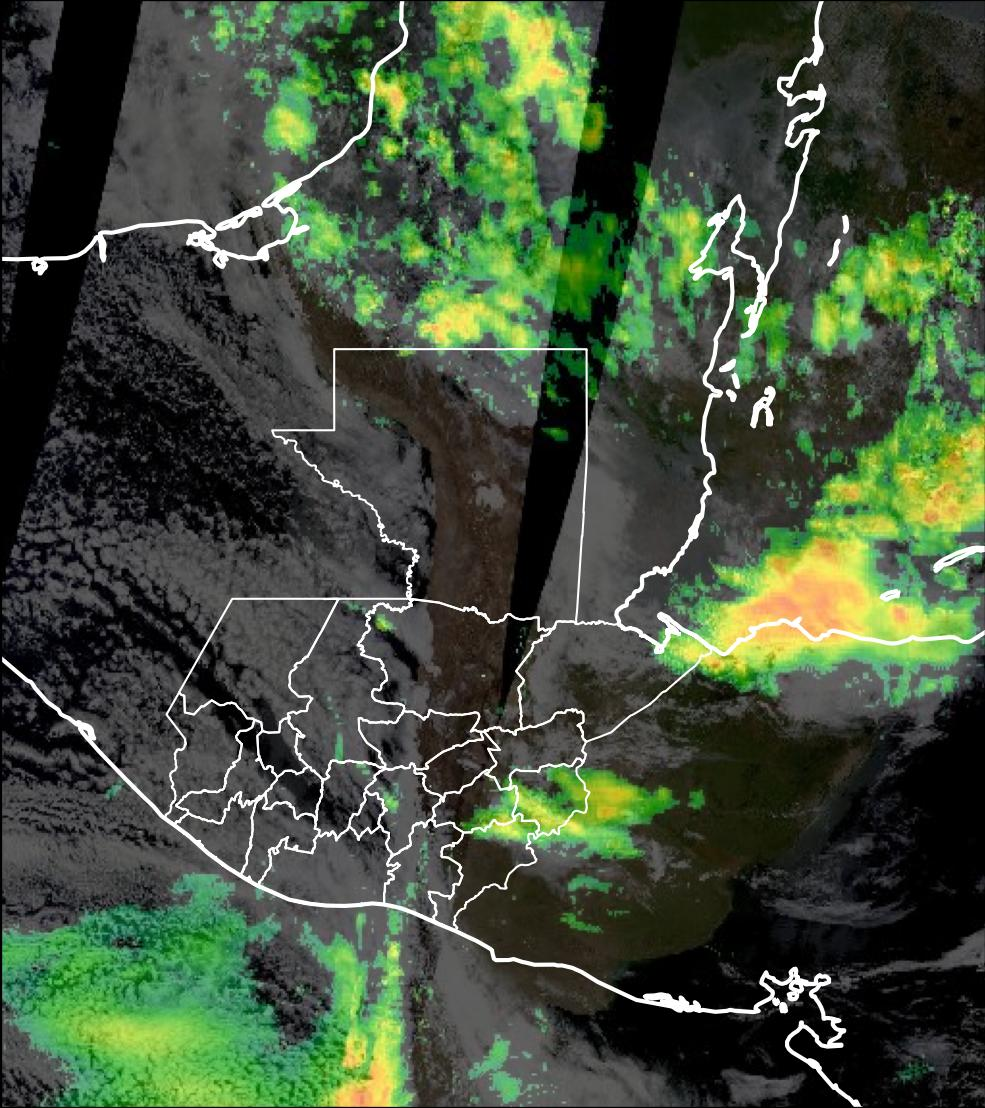precipitacion: (683, 547, 903, 684), (329, 1037, 394, 1108)
